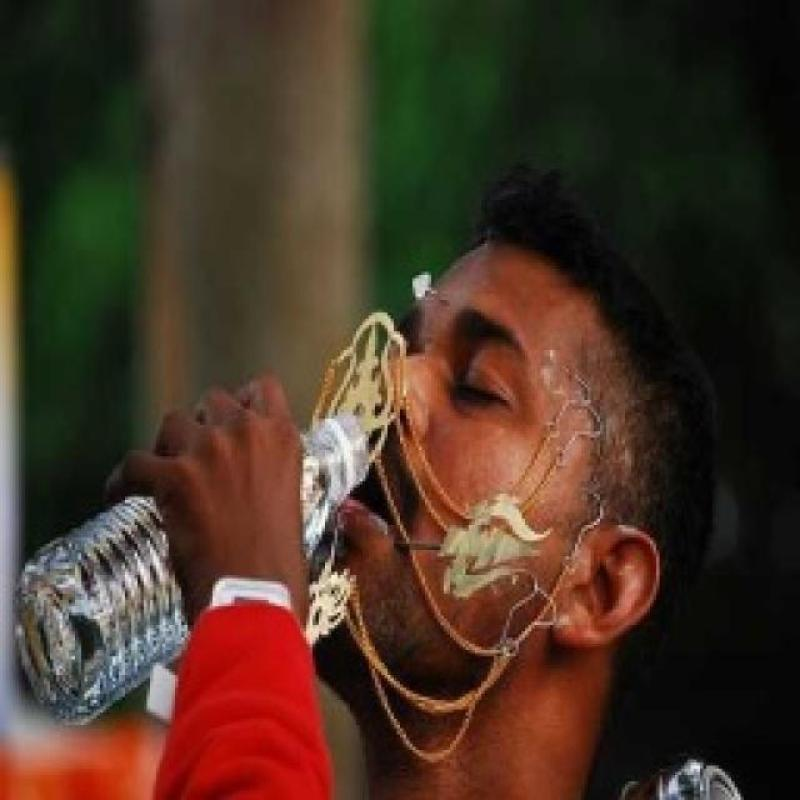botella: (22, 417, 376, 727)
